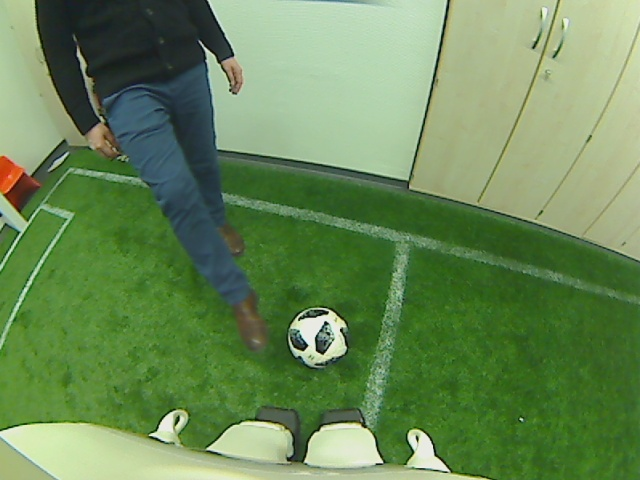ball: (285, 307, 350, 369)
